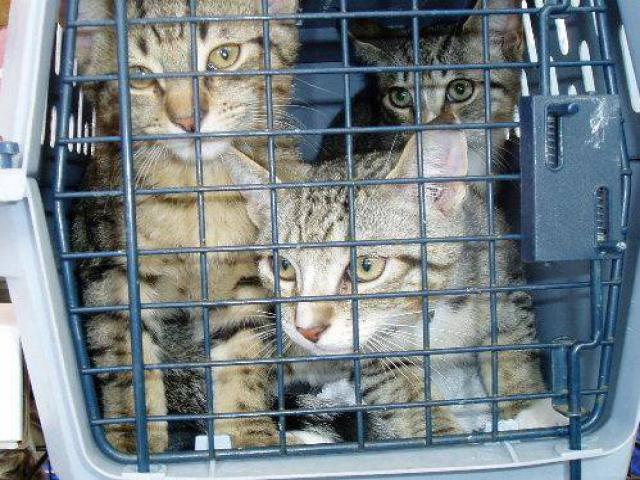cat: (254, 95, 535, 442)
